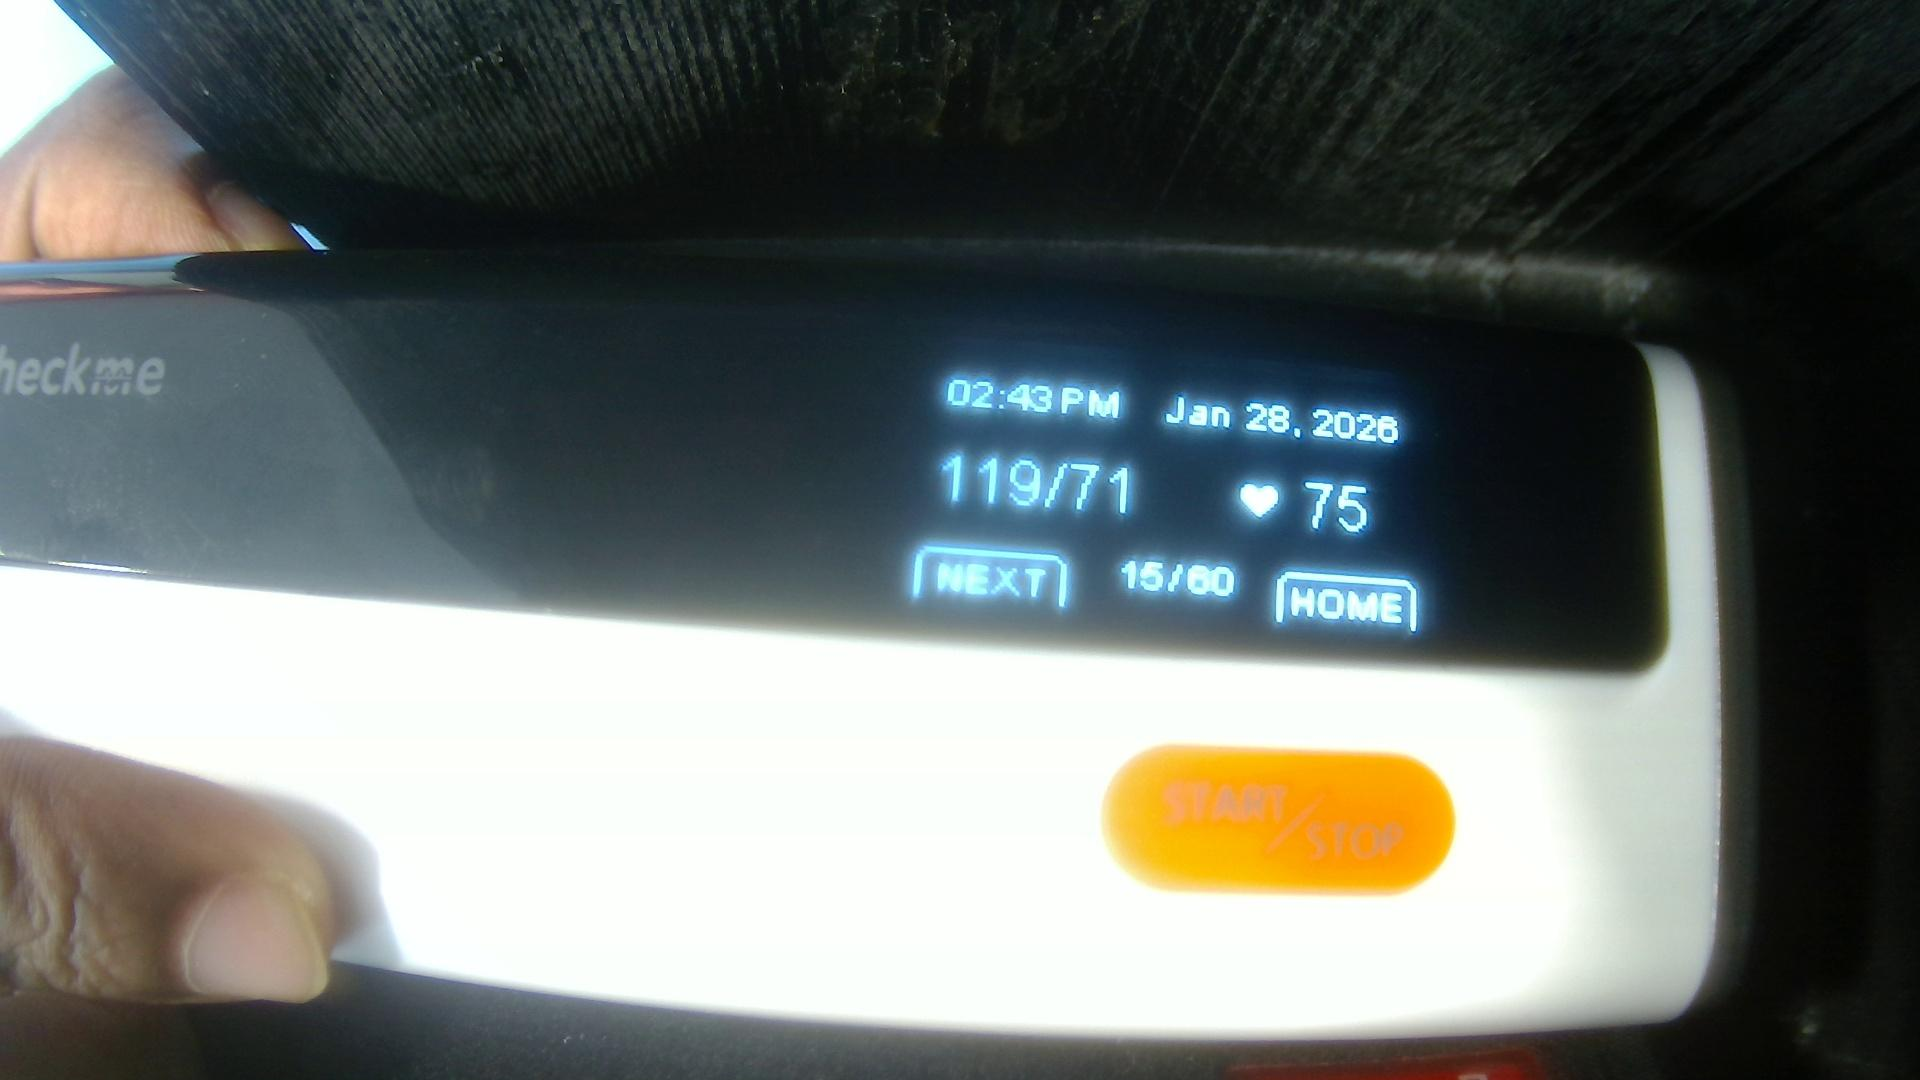DISPLAY: (26, 283, 1650, 669)
